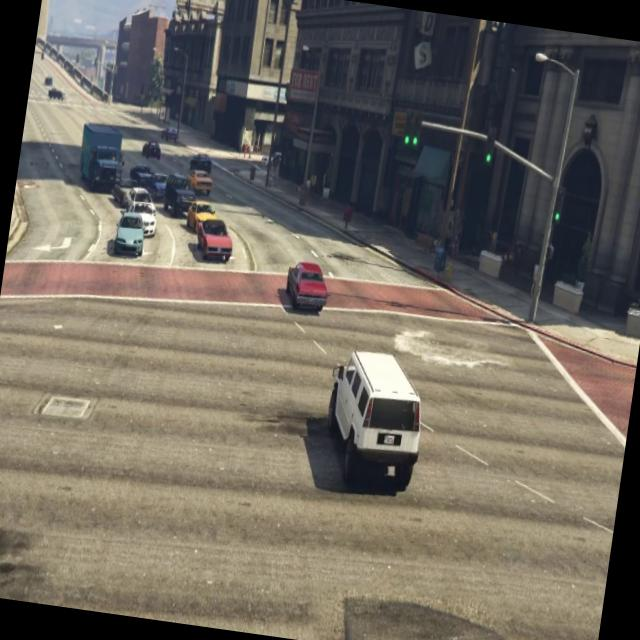Green-Signal: (391, 100, 432, 176), (474, 115, 504, 186), (544, 179, 572, 249)
